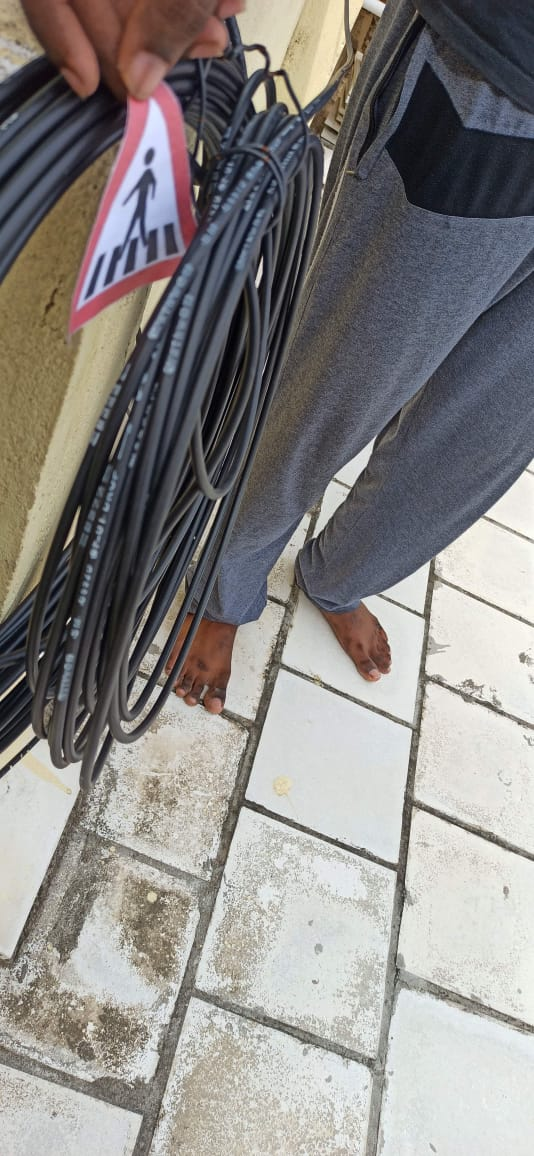PEDESTRIAN CROSSING: (70, 39, 211, 327)
